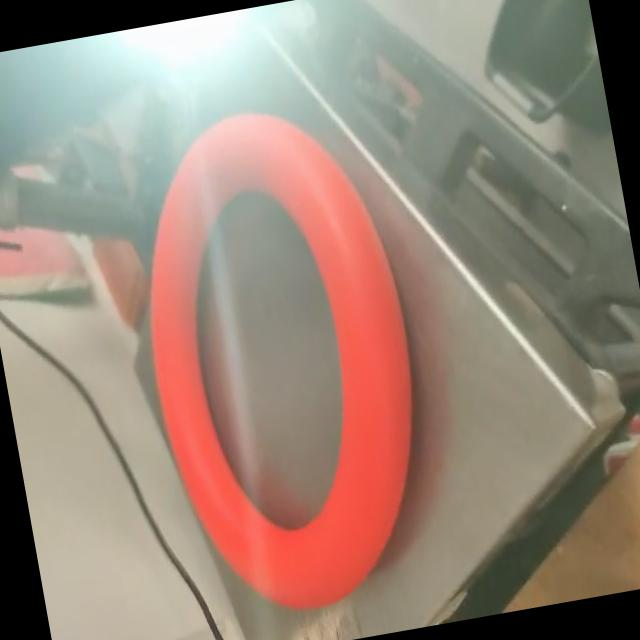note: (106, 88, 458, 640)
